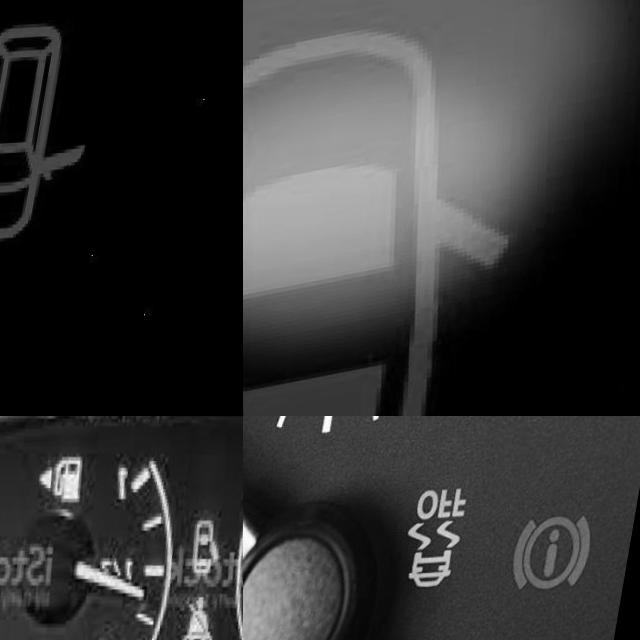Seat Belt: (189, 597, 228, 640)
